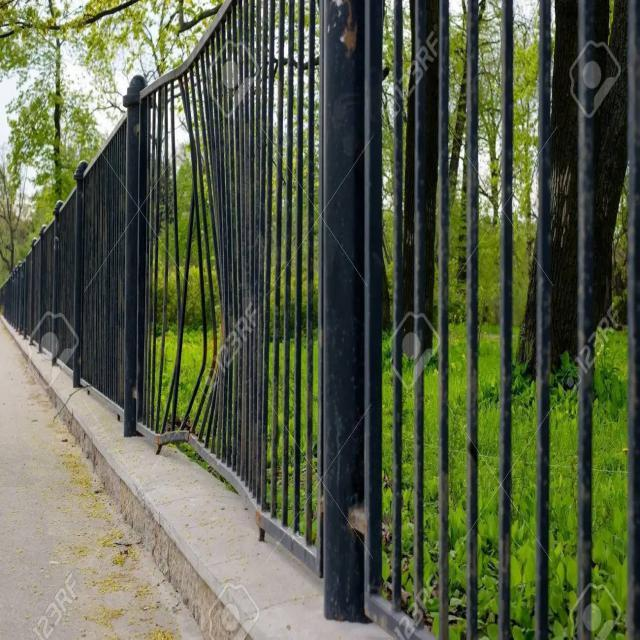fence line: (119, 41, 250, 469), (120, 41, 250, 467)
